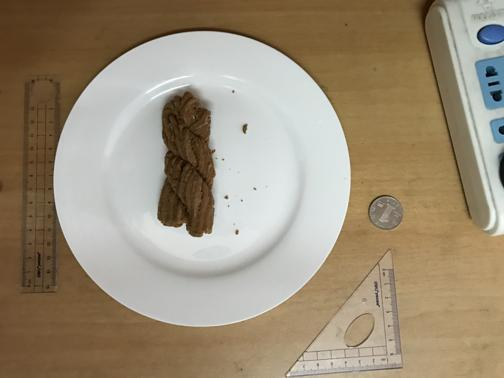coin: (368, 195, 404, 229)
fired_dough_twist: (153, 93, 215, 237)
